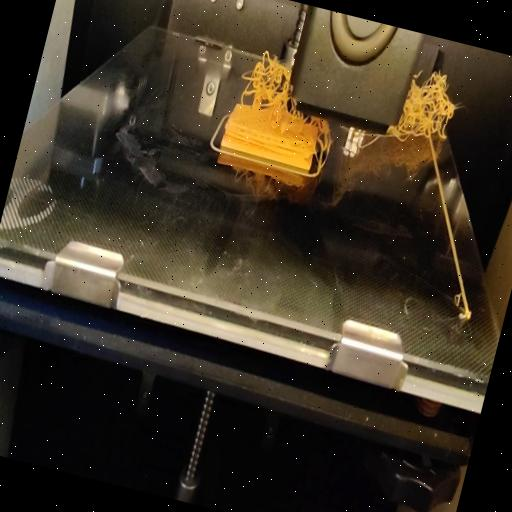spaghetti: (396, 63, 466, 152), (237, 47, 293, 117), (278, 105, 334, 146)
